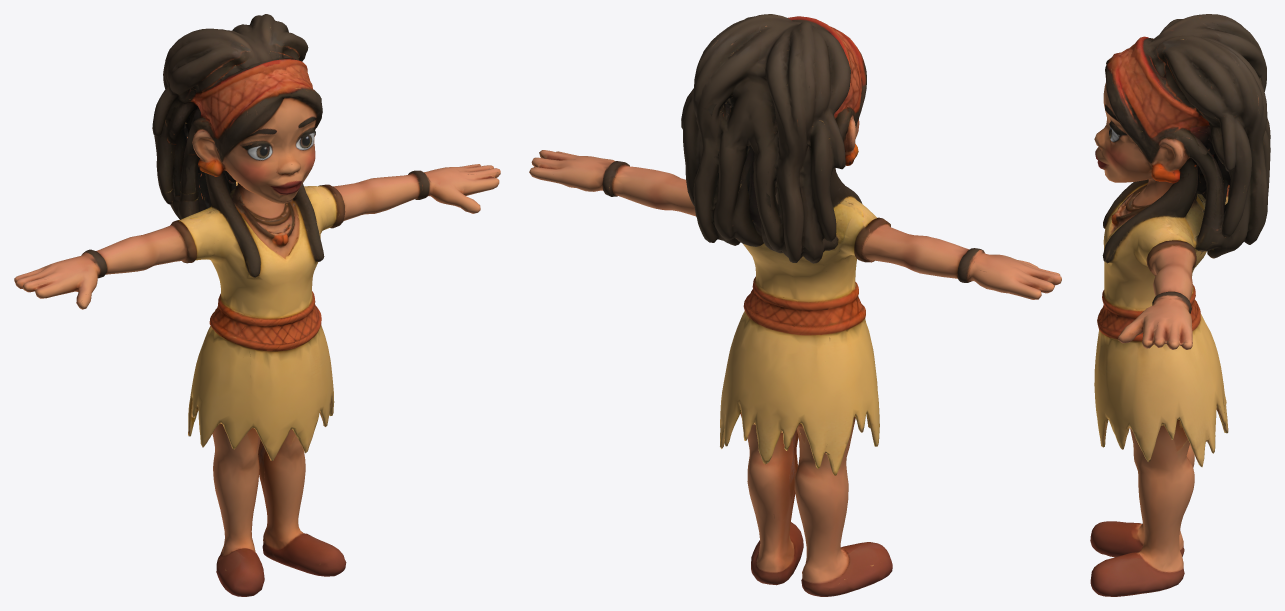
3 renders of one model, left to right at view 1: azimuth 30°, elevation 25°; view 2: azimuth 150°, elevation 25°; view 3: azimuth 270°, elevation 25°, orthographic. The views are drawn at different scales.
Bounding box in the file's own units: 1.82 × 1.92 × 0.576.
Materials: 1 (1 with a texture image).
